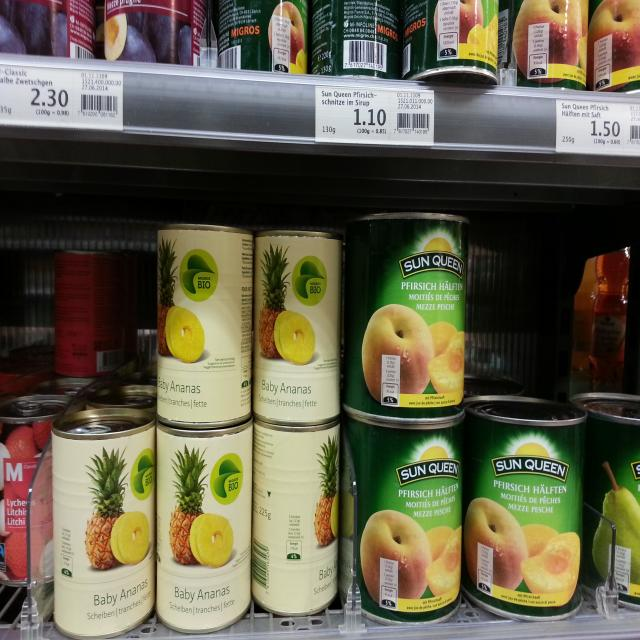Canned: (340, 403, 469, 629), (465, 382, 583, 625), (43, 405, 156, 640), (350, 208, 470, 416), (156, 412, 256, 638), (152, 218, 256, 434), (250, 408, 348, 617), (250, 228, 347, 424), (560, 381, 640, 610), (0, 388, 76, 594)
